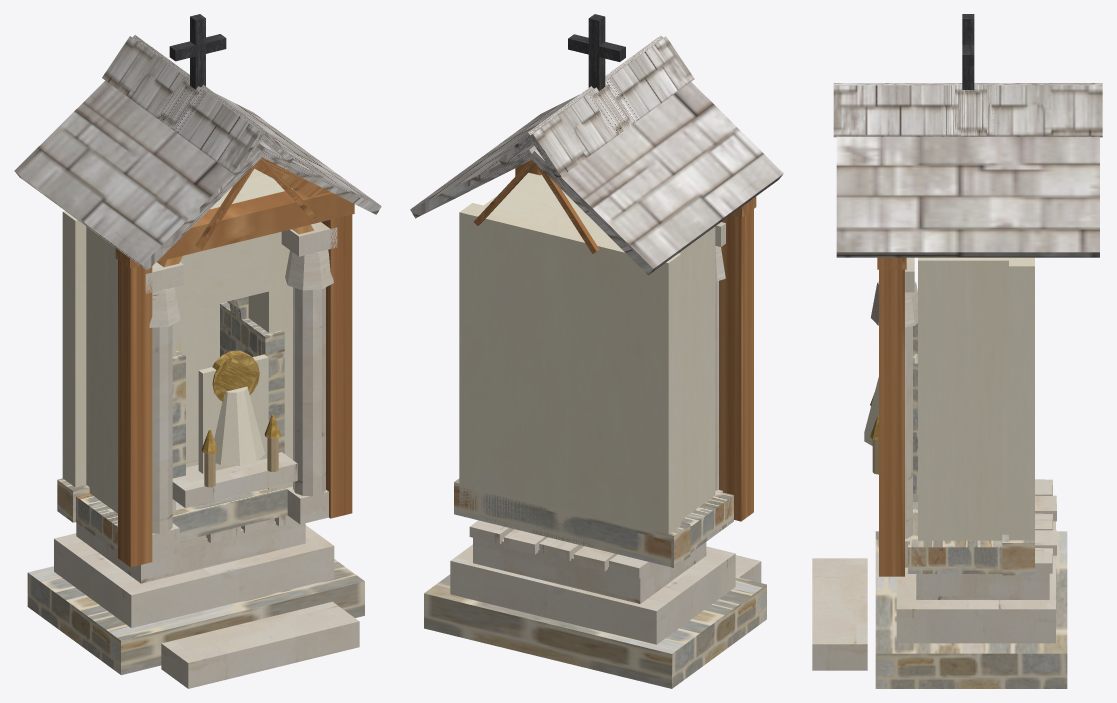
File: wayside_shrine_textured_v1.glb
3 renders of one model, left to right at view 1: azimuth 30°, elevation 25°; view 2: azimuth 150°, elevation 25°; view 3: azimuth 270°, elevation 25°, orthographic. The views are drawn at different scales.
Visible parts, largest first — view 1: WS_Split_Shingle_Gable_Roof, WS_Limewashed_Stone_Niche, WS_Worn_Stepped_Plinth, WS_Timber_Gable_Canopy, WS_Facade_Half_Columns, WS_Marian_Icon_And_Votives, WS_Worn_Roadside_Step, WS_Limewashed_Rear_Closure, WS_Forged_Iron_Ridge_Cross; view 2: WS_Limewashed_Rear_Closure, WS_Split_Shingle_Gable_Roof, WS_Worn_Stepped_Plinth, WS_Limewashed_Stone_Niche, WS_Timber_Gable_Canopy, WS_Forged_Iron_Ridge_Cross, WS_Facade_Half_Columns, WS_Worn_Roadside_Step; view 3: WS_Split_Shingle_Gable_Roof, WS_Limewashed_Stone_Niche, WS_Worn_Stepped_Plinth, WS_Limewashed_Rear_Closure, WS_Timber_Gable_Canopy, WS_Worn_Roadside_Step, WS_Facade_Half_Columns, WS_Forged_Iron_Ridge_Cross, WS_Marian_Icon_And_Votives.
Boxes of the visible parts, <box> form: WS_Split_Shingle_Gable_Roof: <box>14,35,381,270</box>; WS_Limewashed_Stone_Niche: <box>76,169,292,552</box>; WS_Worn_Stepped_Plinth: <box>27,515,364,675</box>; WS_Timber_Gable_Canopy: <box>115,159,354,567</box>; WS_Facade_Half_Columns: <box>145,222,337,560</box>; WS_Marian_Icon_And_Votives: <box>172,350,297,507</box>; WS_Worn_Roadside_Step: <box>161,601,359,688</box>; WS_Limewashed_Rear_Closure: <box>57,168,265,522</box>; WS_Forged_Iron_Ridge_Cross: <box>169,14,226,89</box>; WS_Limewashed_Rear_Closure: <box>454,203,690,567</box>; WS_Split_Shingle_Gable_Roof: <box>410,35,783,275</box>; WS_Worn_Stepped_Plinth: <box>424,520,766,688</box>; WS_Limewashed_Stone_Niche: <box>469,172,733,567</box>; WS_Timber_Gable_Canopy: <box>515,161,756,521</box>; WS_Forged_Iron_Ridge_Cross: <box>568,14,625,90</box>; WS_Facade_Half_Columns: <box>540,174,725,493</box>; WS_Worn_Roadside_Step: <box>735,555,761,582</box>; WS_Split_Shingle_Gable_Roof: <box>833,83,1102,257</box>; WS_Limewashed_Stone_Niche: <box>908,257,1008,573</box>; WS_Worn_Stepped_Plinth: <box>875,479,1067,688</box>; WS_Limewashed_Rear_Closure: <box>1002,257,1034,575</box>; WS_Timber_Gable_Canopy: <box>877,257,906,576</box>; WS_Worn_Roadside_Step: <box>812,558,867,670</box>; WS_Facade_Half_Columns: <box>871,257,917,567</box>; WS_Forged_Iron_Ridge_Cross: <box>962,14,974,89</box>; WS_Marian_Icon_And_Votives: <box>864,377,917,501</box>.
Size of the model in its own units: 1.78 by 4.15 by 1.79.
Materials: 12 (12 with a texture image).
